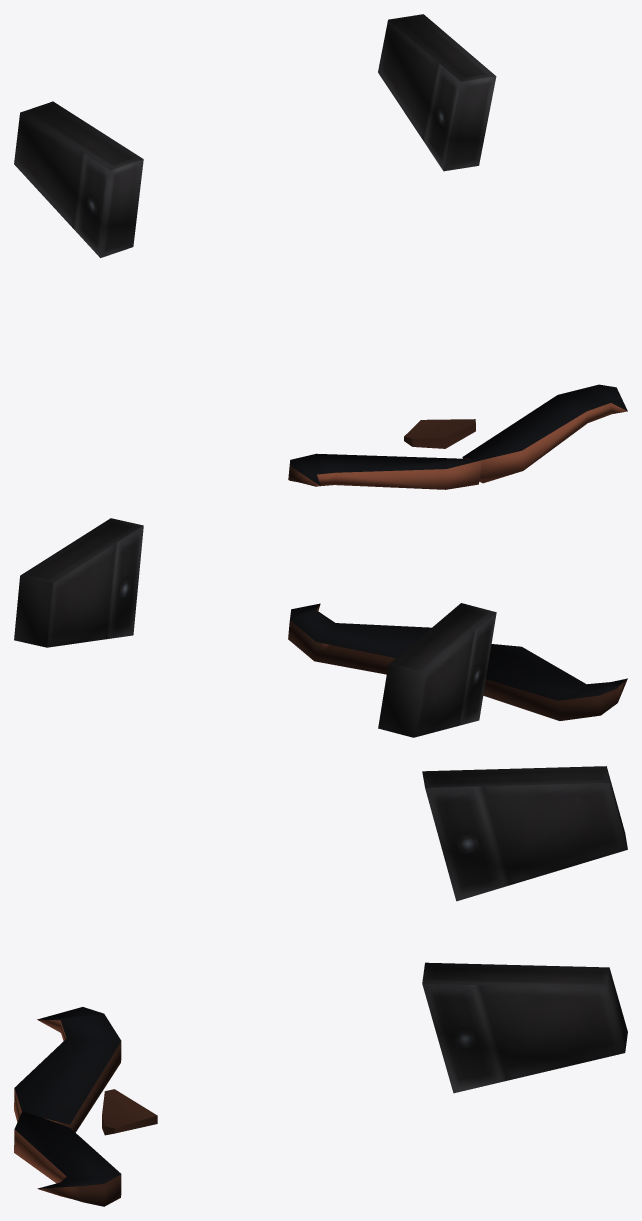
Rendered from Avatar_Cowboy_H_02_239e8459__Avatar_Cowboy_B_01_5eab356a_c1f257.obj.
The picture shows the model from 3 angles, top to bottom: view 1: azimuth 30°, elevation 25°; view 2: azimuth 150°, elevation 25°; view 3: azimuth 270°, elevation 25°; orthographic projection. The views are drawn at different scales.
Bounding box in the file's own units: 0.7028 × 0.399 × 0.8202.
1 material, 1 textured.
